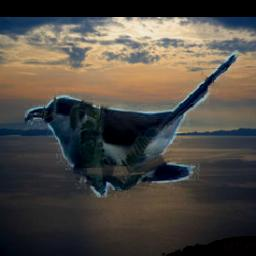Cuckoo: (25, 50, 242, 197)
